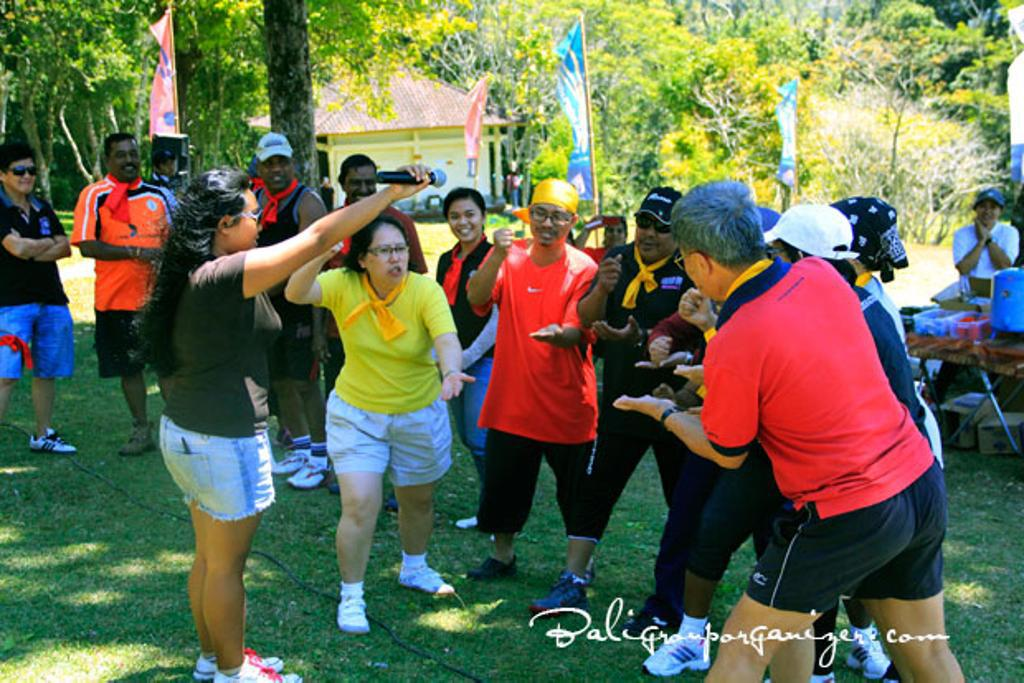face: (681, 247, 732, 297), (366, 231, 408, 285), (227, 199, 263, 253), (636, 211, 677, 258), (766, 242, 801, 293), (531, 203, 572, 245), (448, 202, 483, 241), (261, 152, 292, 190), (109, 144, 140, 181), (345, 170, 376, 206), (5, 161, 35, 193), (978, 197, 1001, 224), (606, 225, 623, 245), (157, 157, 174, 174)
